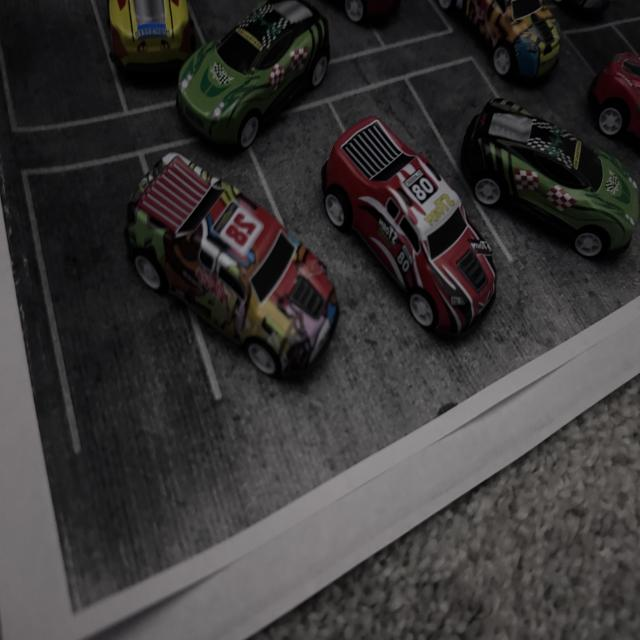car: (452, 54, 640, 316), (285, 104, 461, 369), (130, 0, 380, 141), (105, 202, 326, 320), (80, 0, 244, 86), (437, 0, 562, 81), (486, 0, 622, 68), (585, 19, 640, 156), (263, 0, 428, 39)
